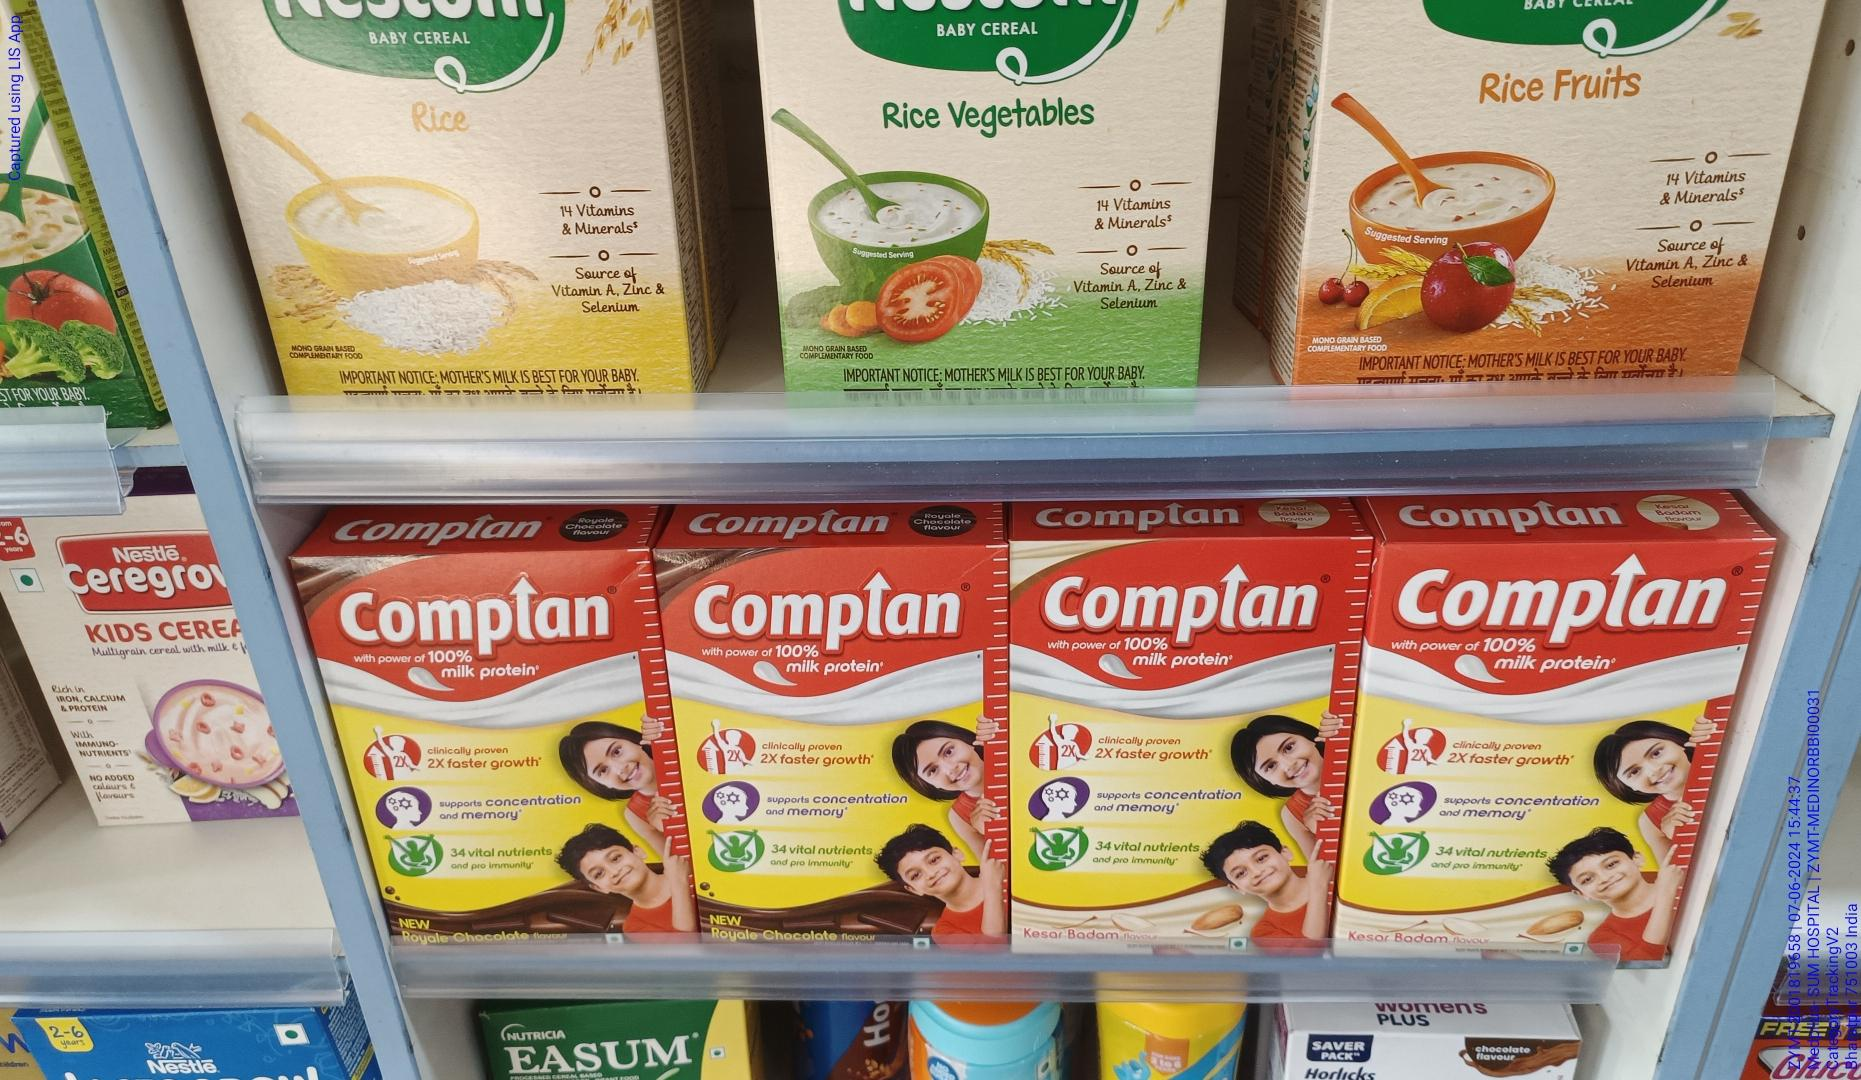COMPLAN_CHOCOLATE_500_GMS_PACK: (670, 541, 991, 949), (342, 543, 652, 950)
COMPLAN_KESAR_BADAM_500_GMS_PACK: (1342, 534, 1682, 955), (1009, 527, 1333, 959)
